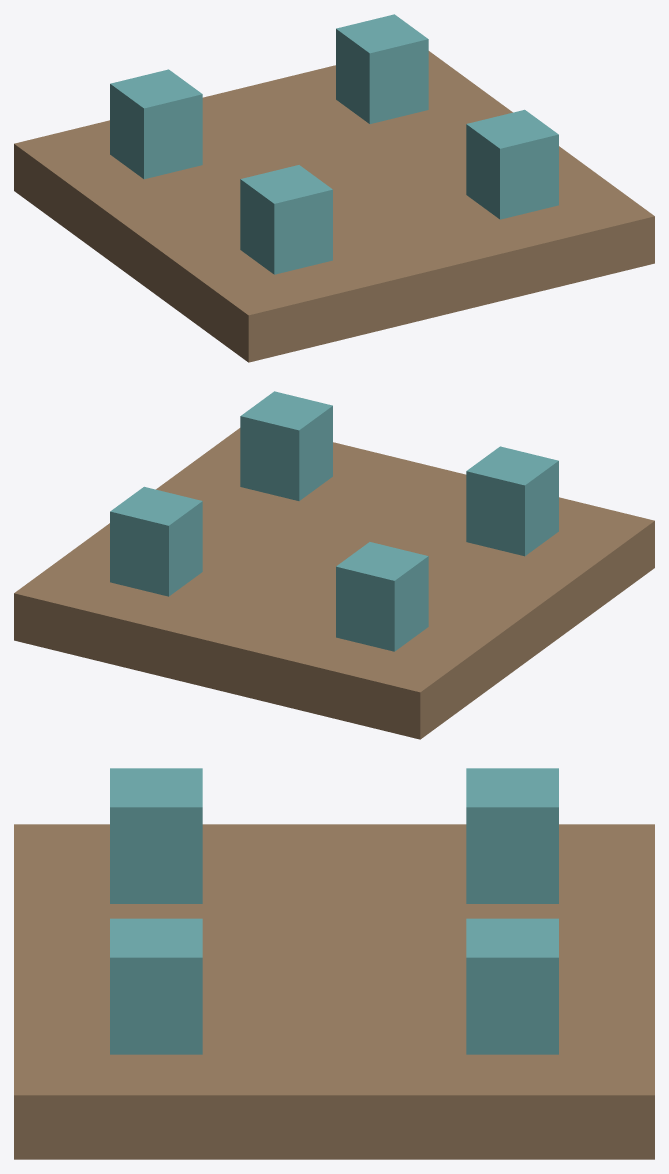
File: Prop_DS_Crop_Kelpweed_S1_V1.glb
3 views of the same model, one above another, from view 1: azimuth 30°, elevation 25°; view 2: azimuth 150°, elevation 25°; view 3: azimuth 270°, elevation 25° (orthographic). The views are drawn at different scales.
Parts seen in each view (by area): view 1: Prop_DS_Crop_Kelpweed_S1_V1; view 2: Prop_DS_Crop_Kelpweed_S1_V1; view 3: Prop_DS_Crop_Kelpweed_S1_V1.
Part boxes in pixels (x1,y1,x2,y2): Prop_DS_Crop_Kelpweed_S1_V1: (14,14,654,362); Prop_DS_Crop_Kelpweed_S1_V1: (14,391,654,739); Prop_DS_Crop_Kelpweed_S1_V1: (14,768,654,1159).
Bounding box in the file's own units: 0.9 × 0.25 × 0.9.
